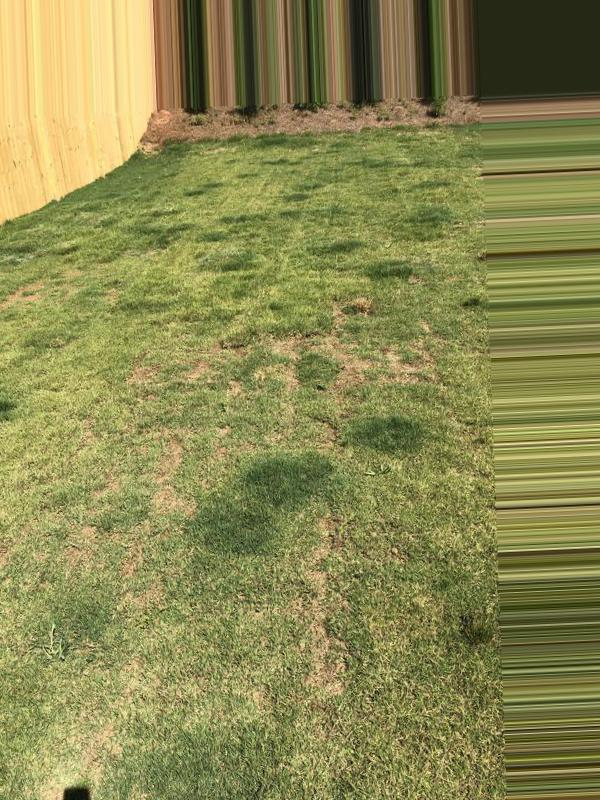patch: (18, 350, 171, 782), (175, 547, 334, 699), (174, 341, 331, 447), (254, 315, 411, 385)
